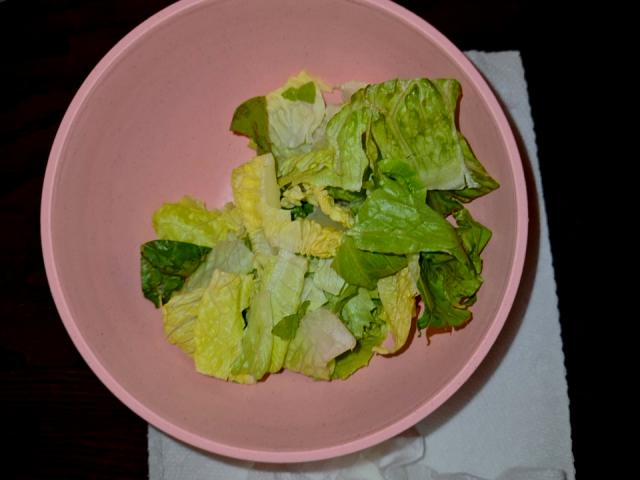kichen waste: (140, 73, 495, 384)
